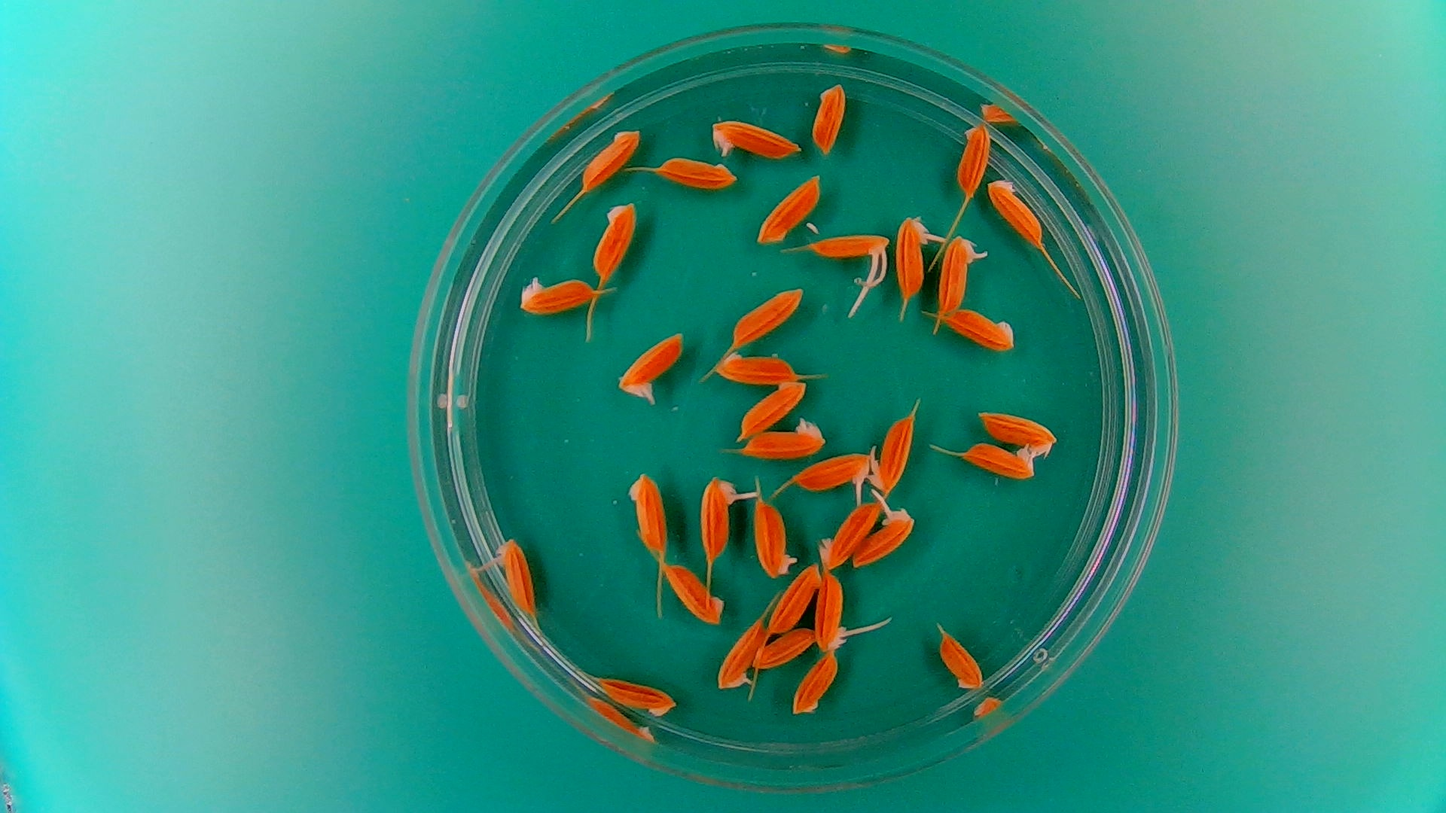no: (754, 169, 825, 248), (728, 285, 806, 346), (734, 377, 808, 441), (984, 174, 1045, 248), (590, 197, 641, 285), (819, 498, 883, 568), (578, 125, 641, 192), (767, 560, 823, 635), (716, 616, 770, 691), (664, 562, 726, 626), (739, 416, 825, 460), (625, 469, 669, 553), (596, 674, 679, 718), (753, 498, 798, 579), (790, 648, 842, 717), (515, 273, 597, 316), (944, 306, 1019, 353), (938, 624, 987, 693), (981, 407, 1055, 452), (654, 155, 739, 192), (712, 349, 798, 385), (953, 120, 993, 197), (962, 441, 1037, 480), (809, 78, 847, 154), (752, 626, 816, 670)
yes: (615, 327, 688, 402), (935, 234, 988, 319), (709, 114, 803, 161), (868, 405, 916, 496), (700, 474, 749, 562), (491, 534, 541, 620), (853, 503, 918, 568), (791, 449, 877, 496), (894, 213, 938, 300), (816, 570, 854, 651), (810, 235, 896, 263)
